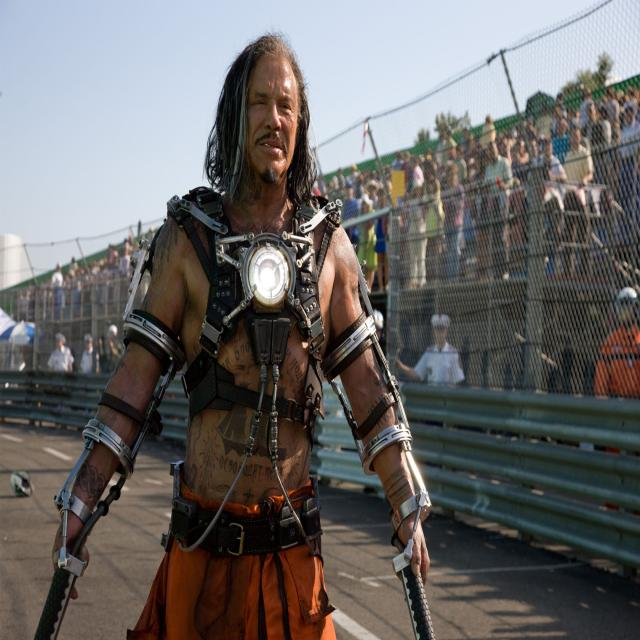human: (51, 21, 444, 640)
